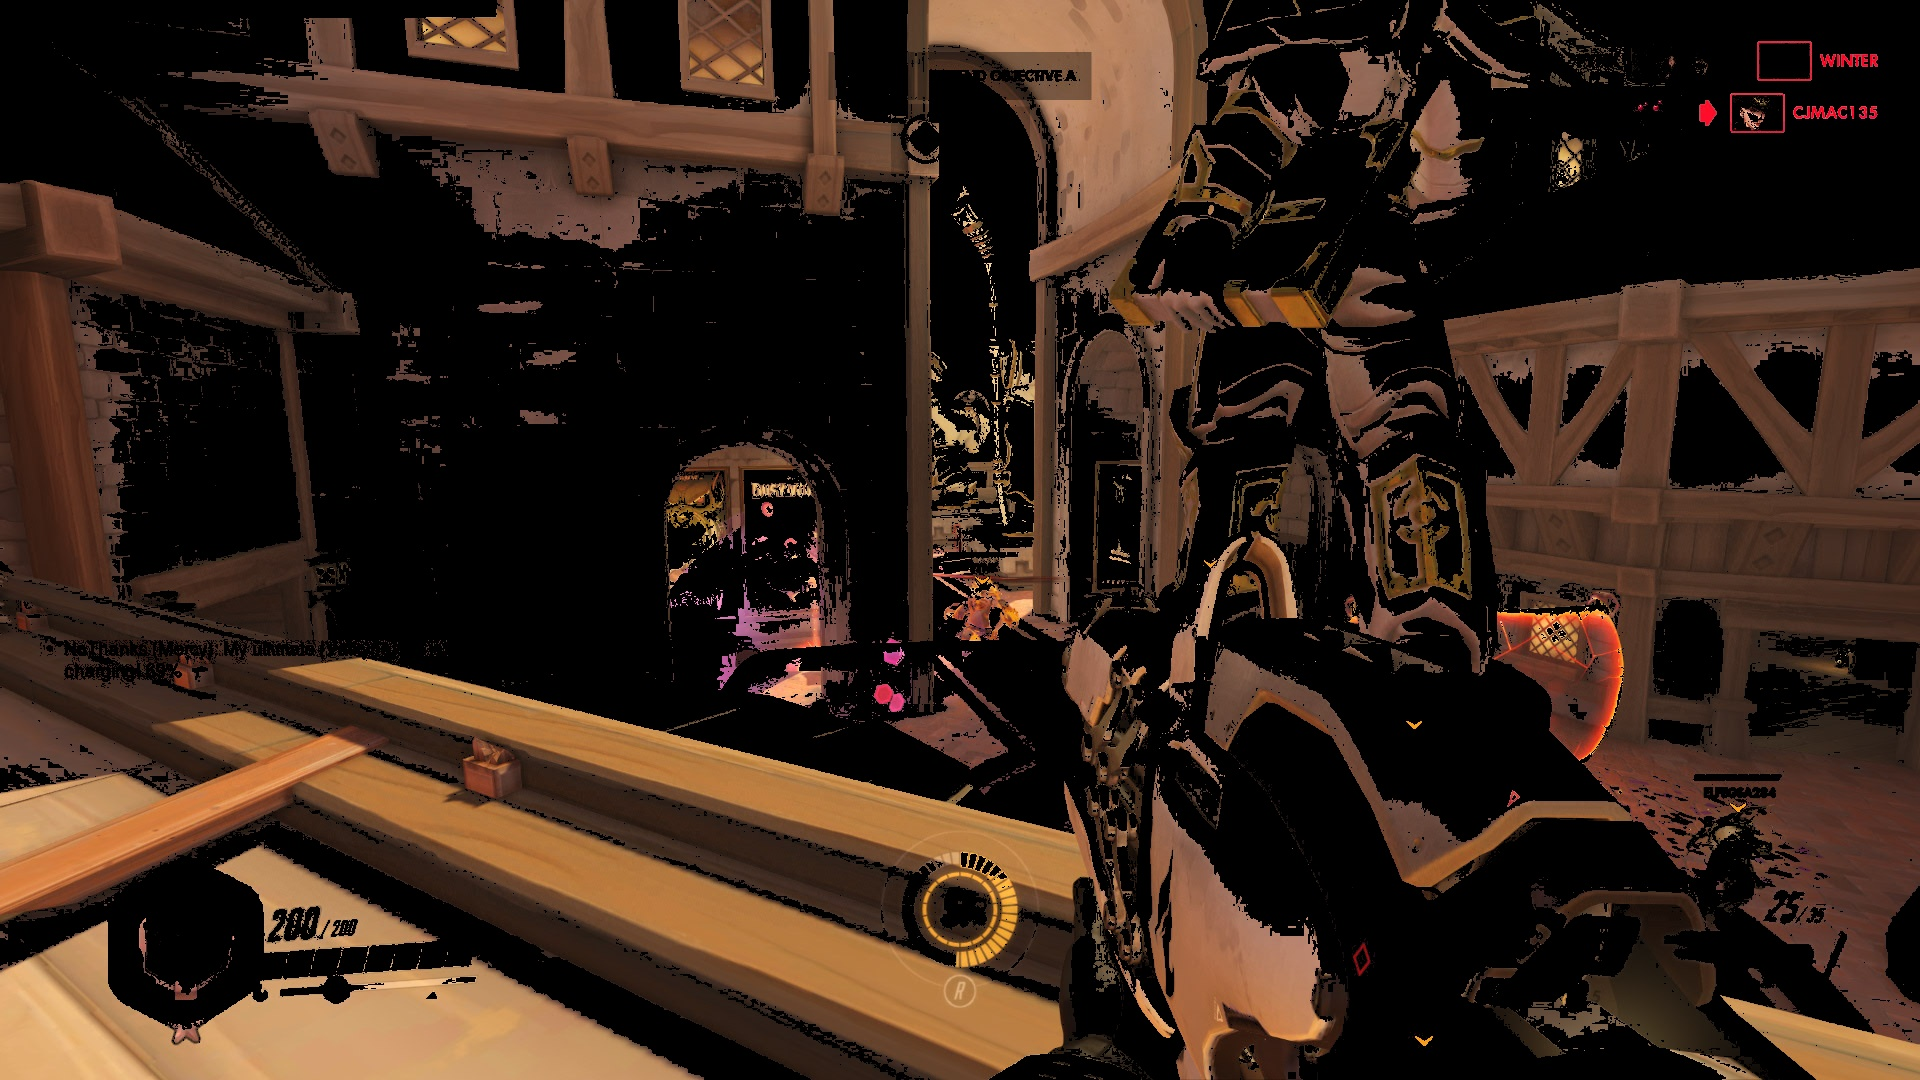widowmaker: (952, 524, 965, 553)
